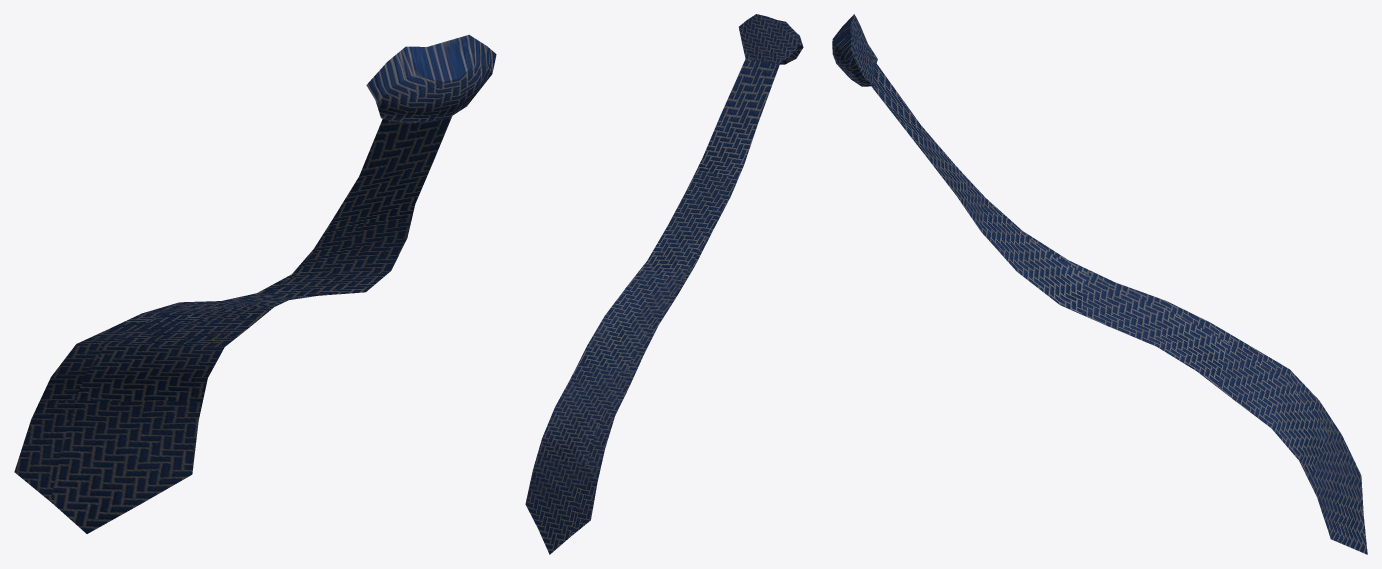
Rendered from Pose-8_Tie-3.fbx.
The picture shows the model from 3 angles, left to right: view 1: azimuth 30°, elevation 25°; view 2: azimuth 150°, elevation 25°; view 3: azimuth 270°, elevation 25°; orthographic projection. The views are drawn at different scales.
Visible parts, largest first — view 1: Pose-8_Tie-3; view 2: Pose-8_Tie-3; view 3: Pose-8_Tie-3.
Boxes of the visible parts, left/top/right/bottom form: Pose-8_Tie-3: left=14, top=35, right=496, bottom=533; Pose-8_Tie-3: left=525, top=14, right=803, bottom=554; Pose-8_Tie-3: left=832, top=14, right=1367, bottom=554.
Size of the model in its own units: 8.23 by 33.15 by 31.14.
